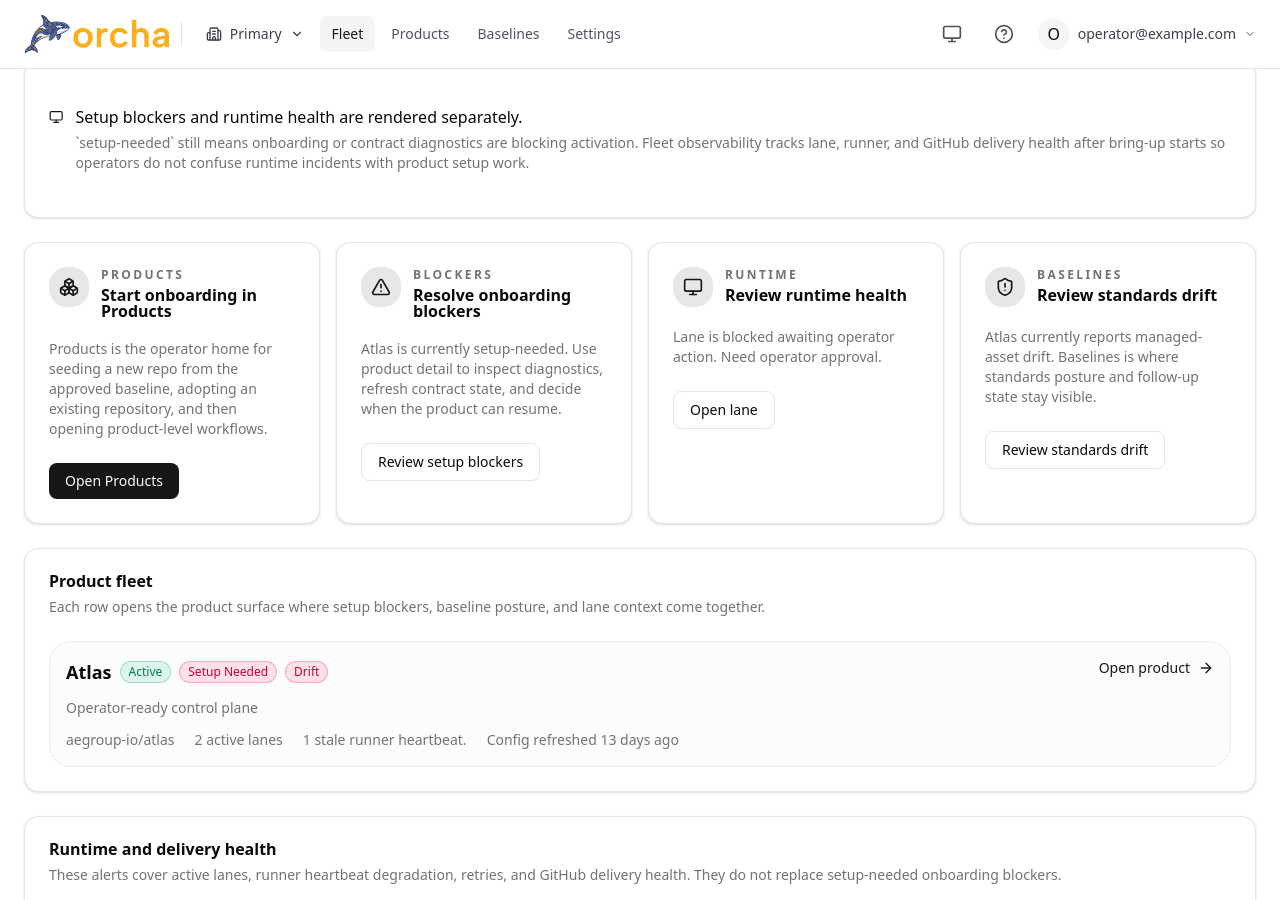
Test: App › routes fleet drift warnings to the matching baseline follow-up surface
(page scrolled)
Step 1. Click the link "Review standards drift" → (1075, 450), box 985,431 -> 1165,469
(page scrolled)
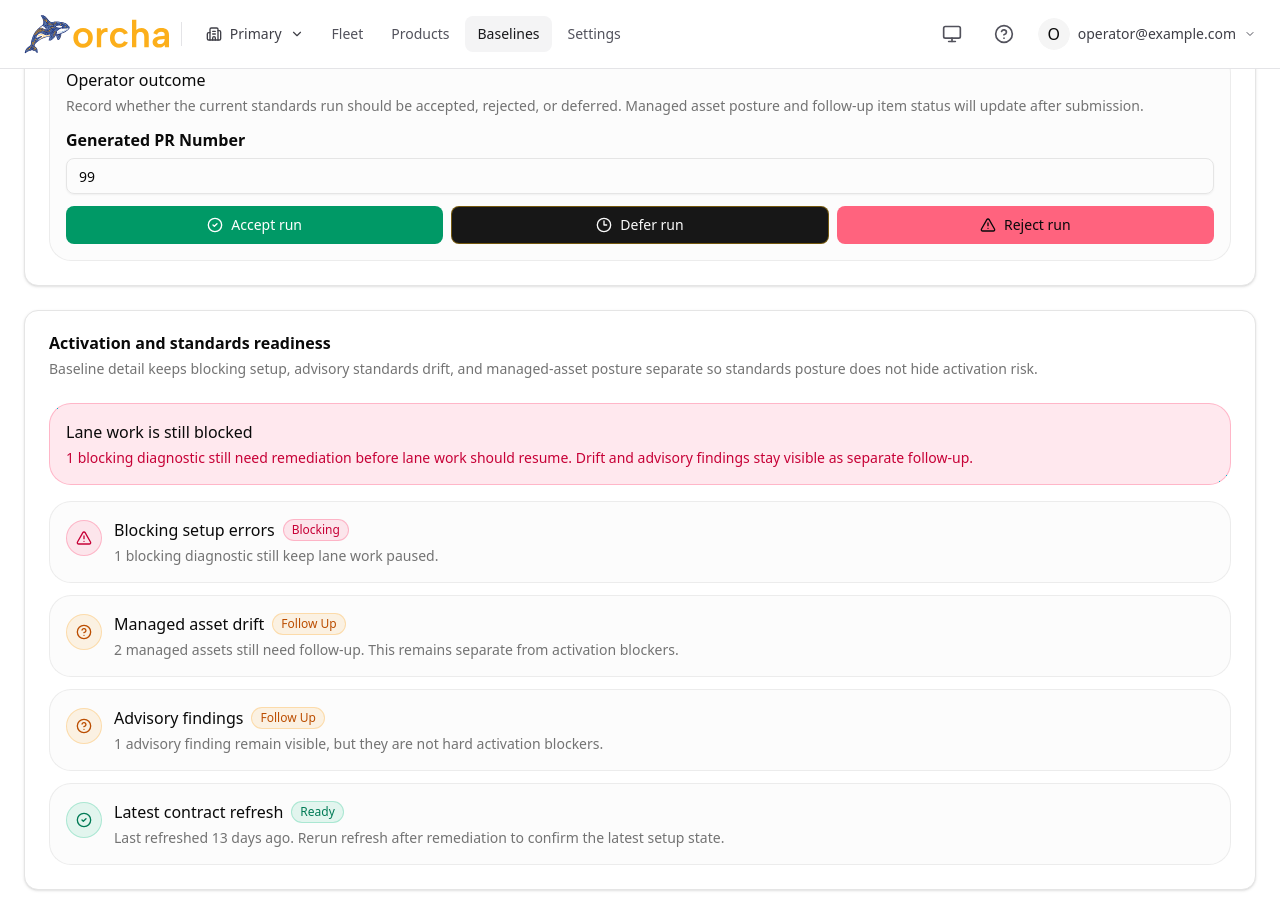
Check: the text "Managed asset drift" is shown, box 114,612 -> 264,636
